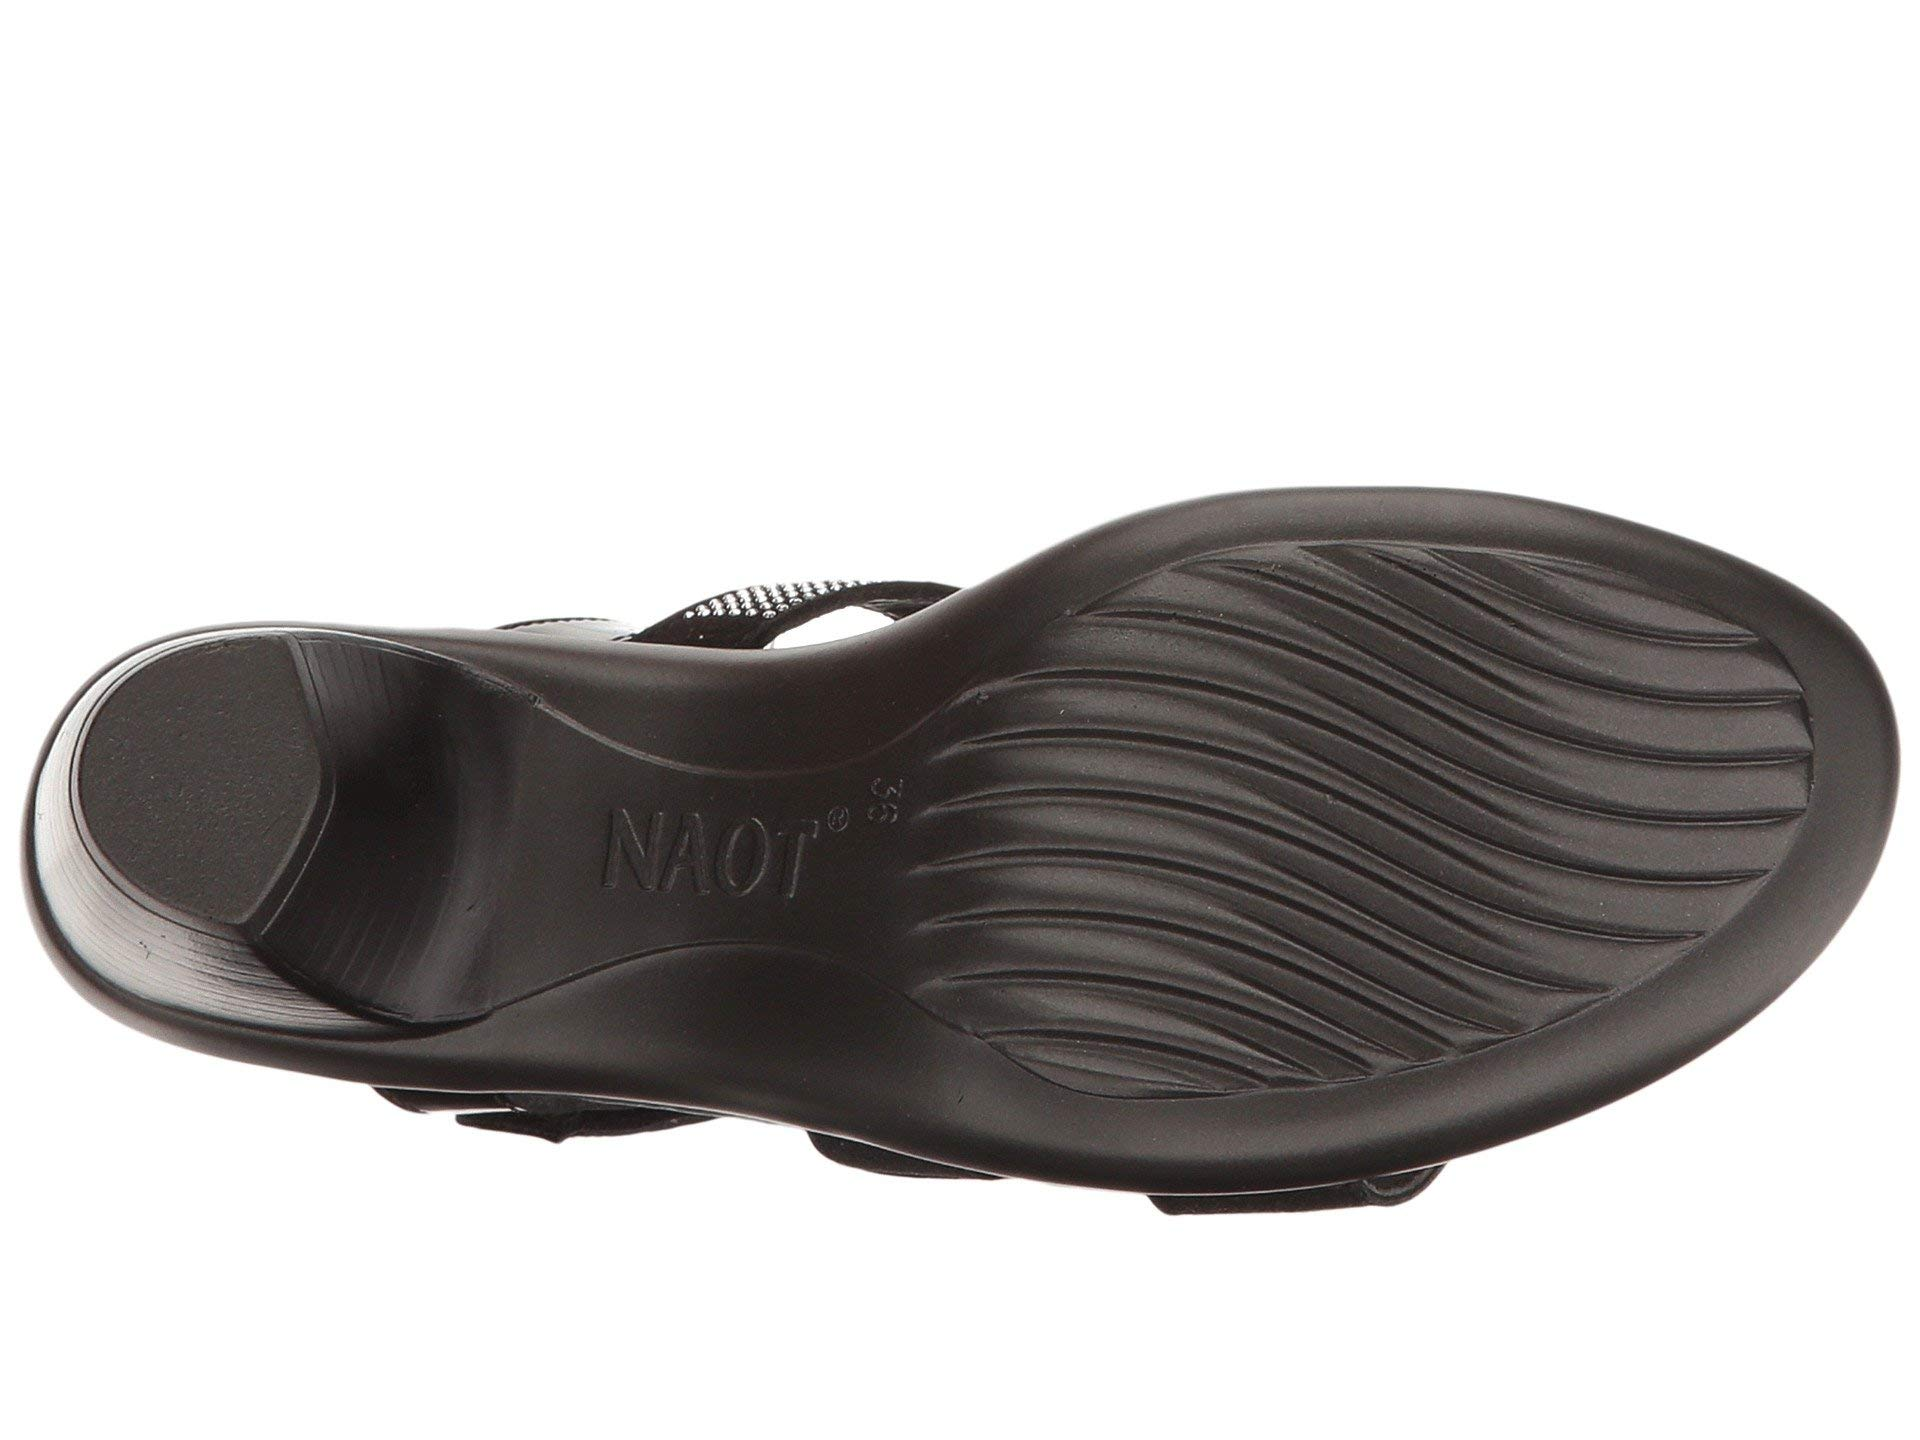line: (1096, 582, 1710, 954)
